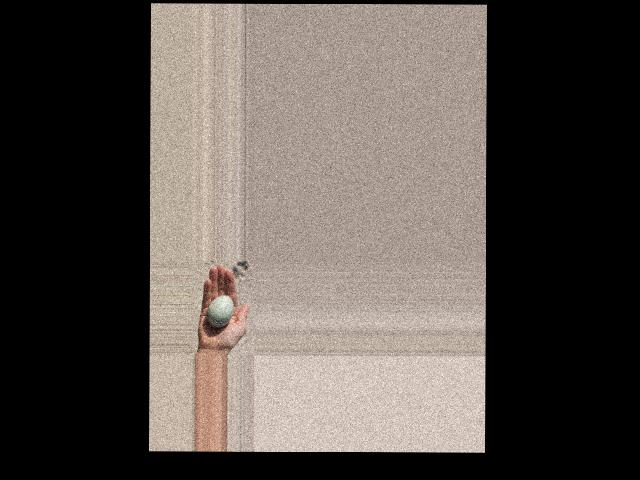egg: (206, 294, 233, 326)
